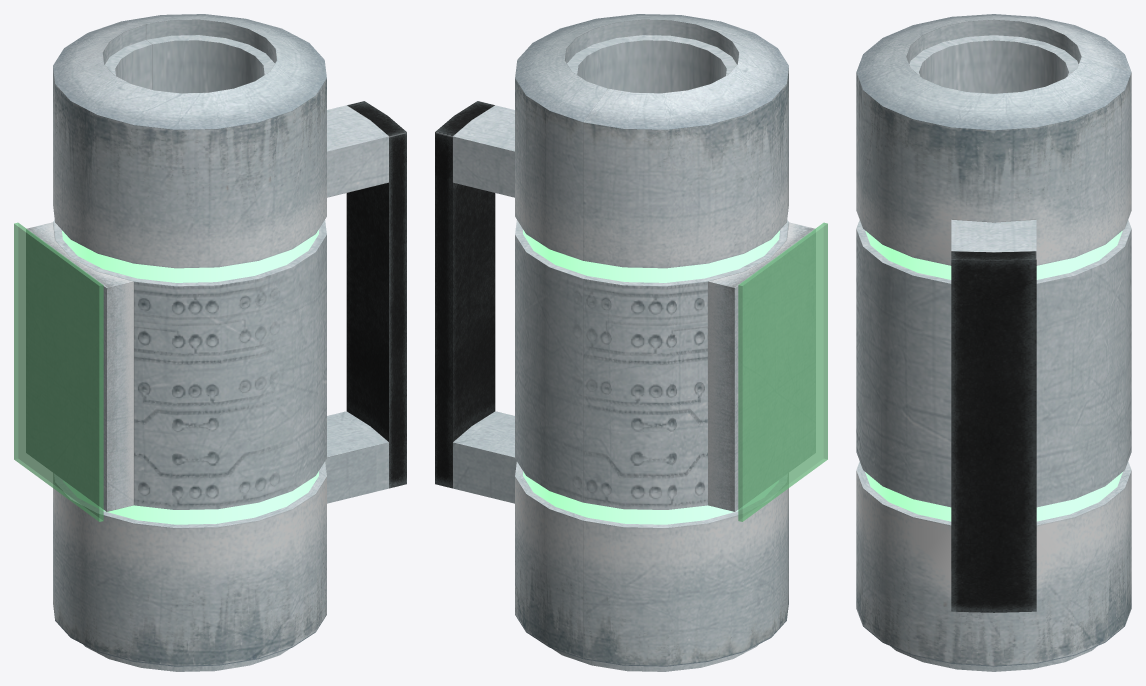
Rendered from Power_Cell_Green.fbx.
3 renders of one model, left to right at view 1: azimuth 30°, elevation 25°; view 2: azimuth 150°, elevation 25°; view 3: azimuth 270°, elevation 25°, orthographic.
Parts seen in each view (by area): view 1: Power_Cell; view 2: Power_Cell; view 3: Power_Cell.
Boxes of the visible parts, x1=… form: Power_Cell: x1=14, y1=14, x2=406, y2=671; Power_Cell: x1=435, y1=14, x2=827, y2=671; Power_Cell: x1=856, y1=14, x2=1131, y2=671.
Size of the model in its own units: 13.88 by 22.61 by 10.
Materials: 3 (1 with a texture image).
